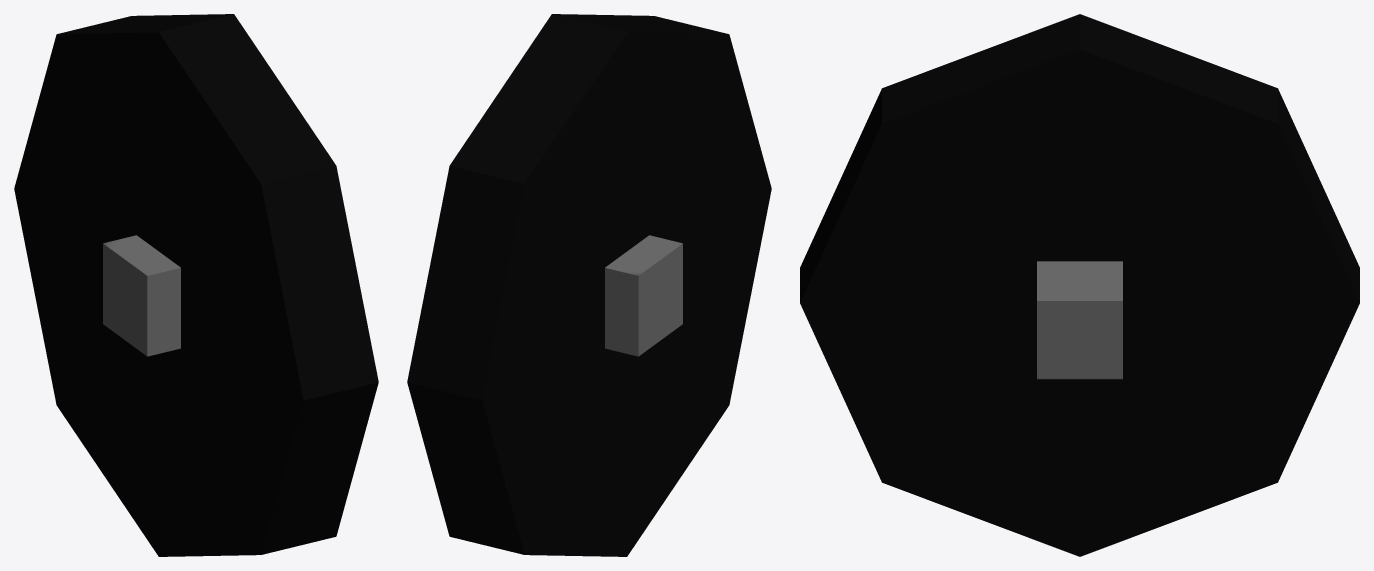
File: MonsterTire.obj
3 renders of one model, left to right at view 1: azimuth 30°, elevation 25°; view 2: azimuth 150°, elevation 25°; view 3: azimuth 270°, elevation 25°, orthographic. The views are drawn at different scales.
Parts seen in each view (by area): view 1: M_Tire_L; view 2: M_Tire_L; view 3: M_Tire_L.
Part boxes in pixels (x1,y1,x2,y2): M_Tire_L: (14,14,378,556); M_Tire_L: (407,14,771,556); M_Tire_L: (800,14,1359,556).
Size of the model in its own units: 0.5 by 1.3 by 1.3.
1 material, 1 textured.
